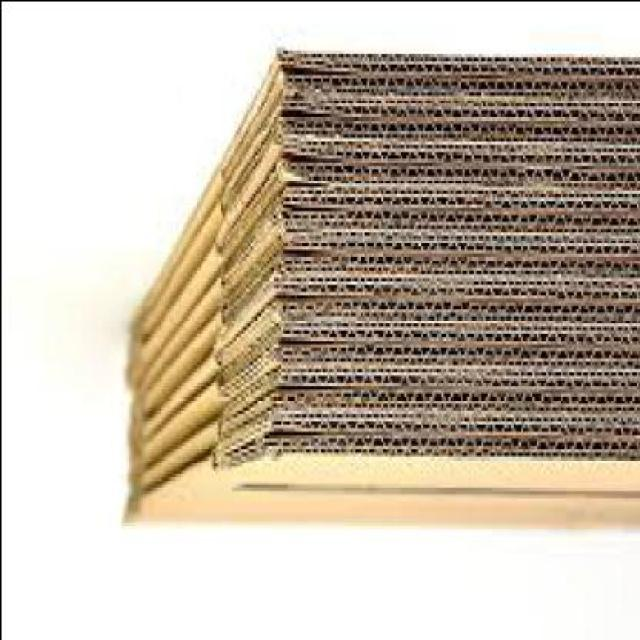CARDBOARD: (124, 55, 638, 534), (124, 437, 638, 534)
